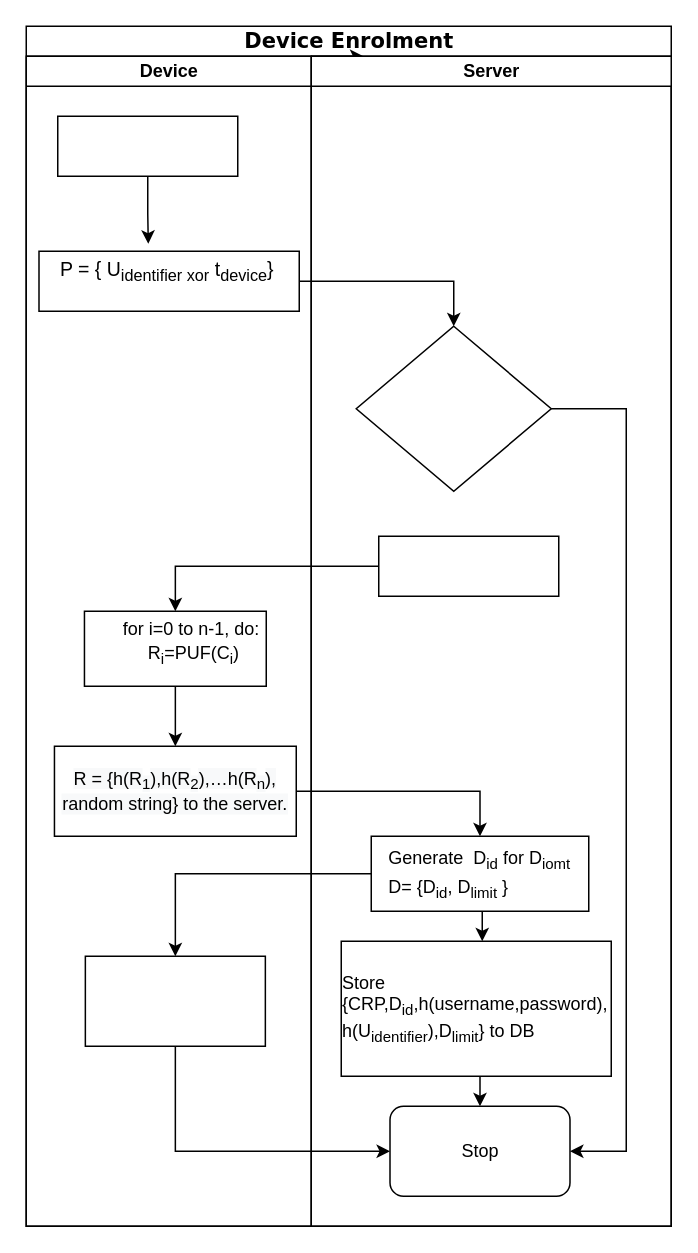
This 698x1253 diagram has some shape labels left out. The centre of each missing label's shape, as x and y in pixels:
"Generate challenges" belongs at [468,565].
"Obtain Uidentifier from User" belongs at [147,145].
"Store D id and D limit to memory." belongs at [174,1000].
"t server -t device > t delta" belongs at [453,408].
